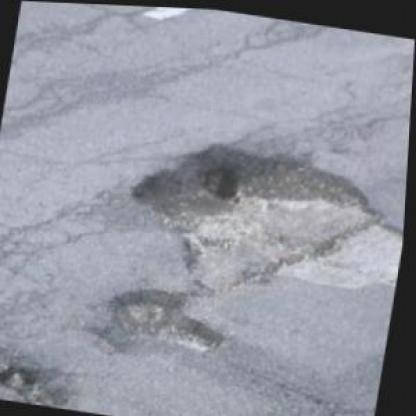pothole: (115, 124, 394, 310), (100, 274, 233, 354), (0, 340, 90, 406)
